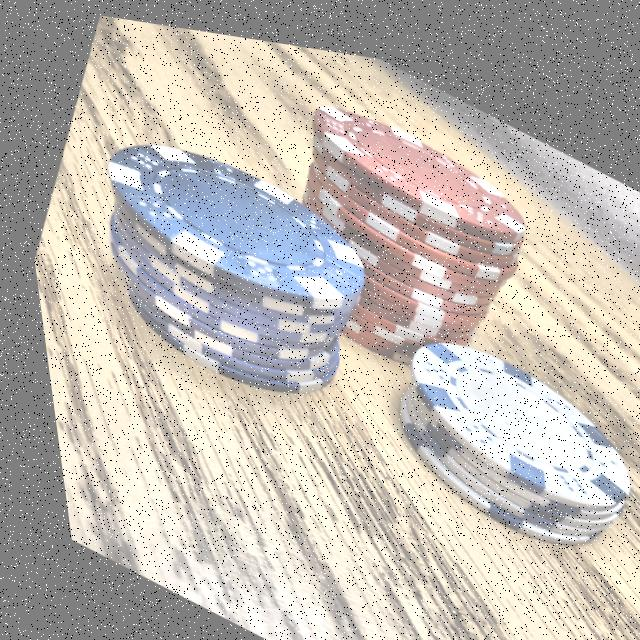Chip: (16, 72, 423, 468), (226, 41, 572, 415), (323, 262, 640, 590)
